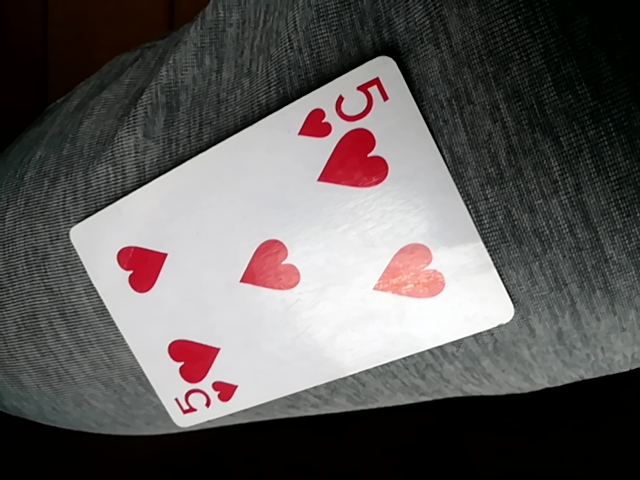hx 5: (66, 49, 524, 438)
